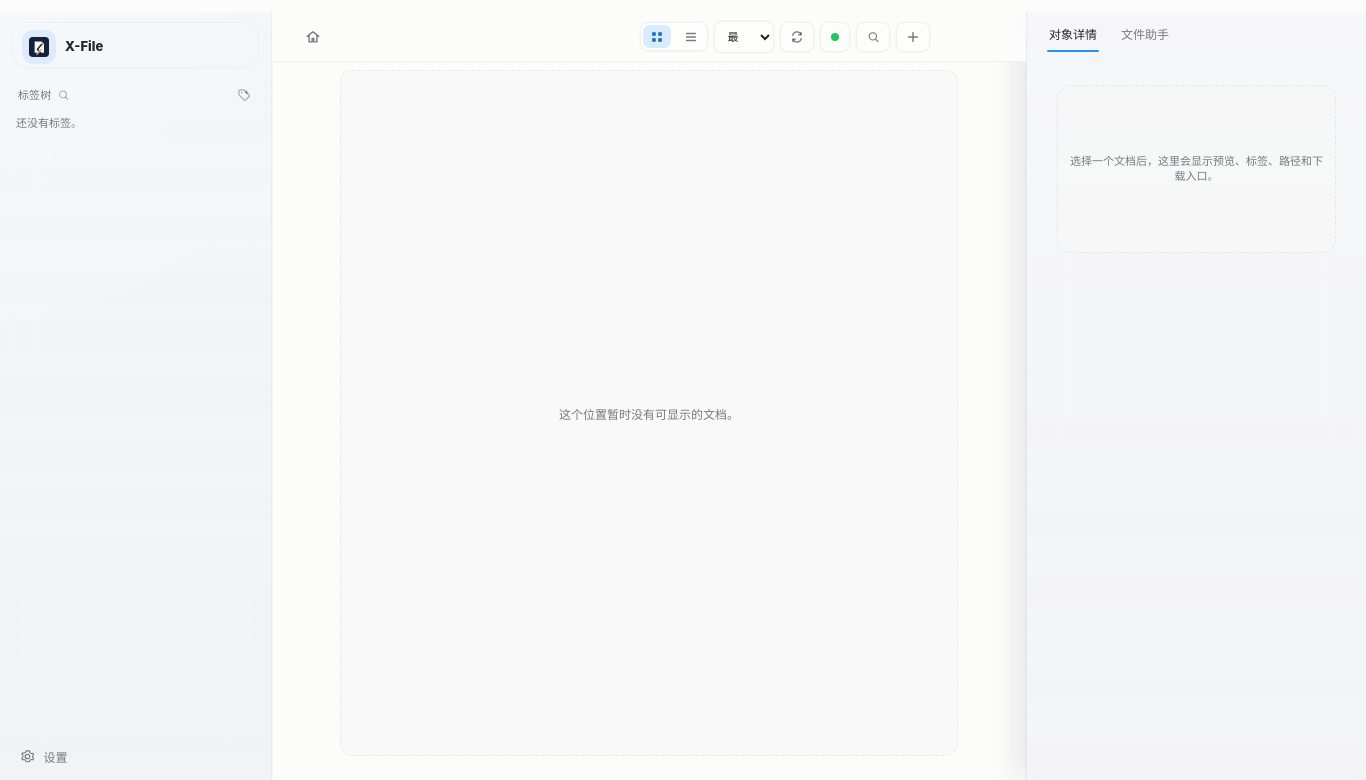
第 4 批：H5/Web 右键菜单、文件操作与剪贴板 › 文档库空白处右键菜单只保留可粘贴操作和空白区动作
Right-click the element named "文档列表" at (649, 413), box [340, 70, 958, 756]
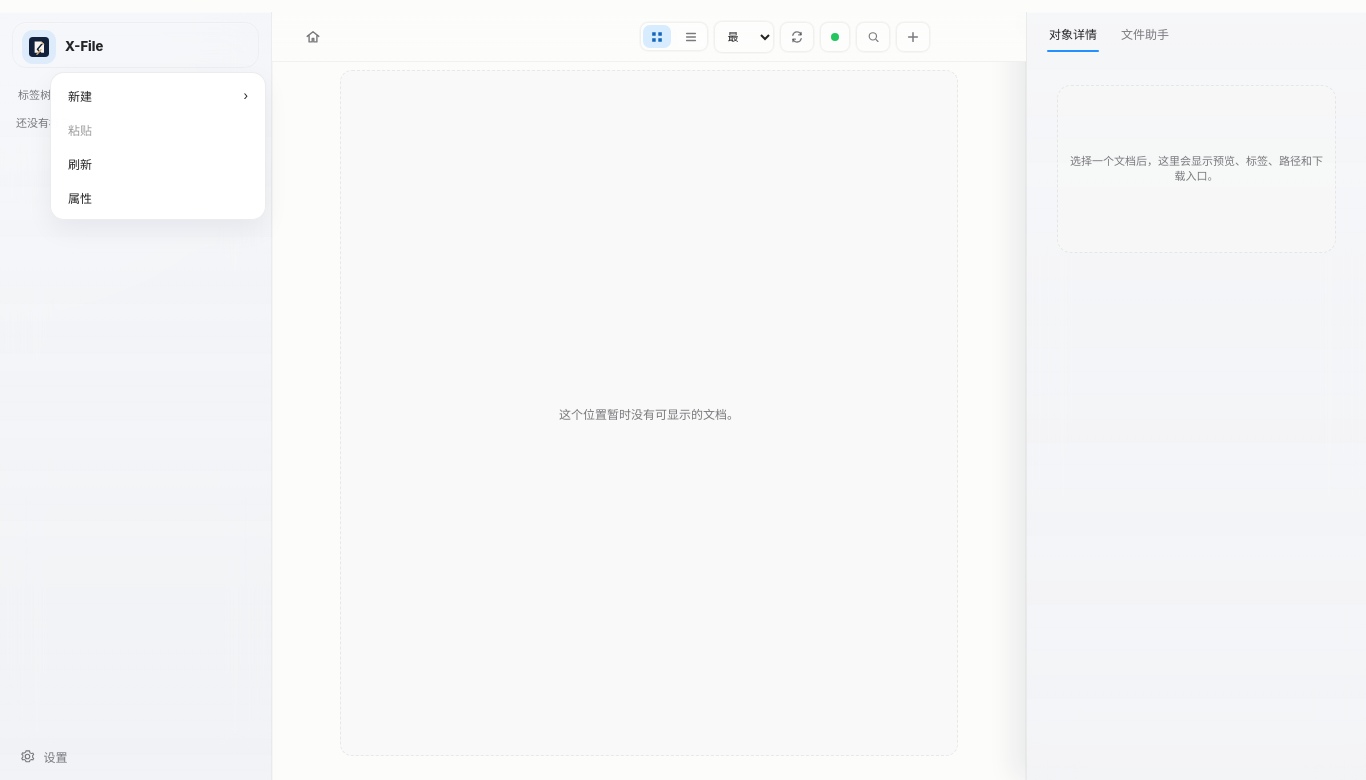
Check: the menu item "新建 ›" is shown, box [58, 80, 258, 110]
Check: the menu item "粘贴" is disabled, box [58, 114, 258, 144]
Check: the menu item "刷新" is shown, box [58, 148, 258, 178]
